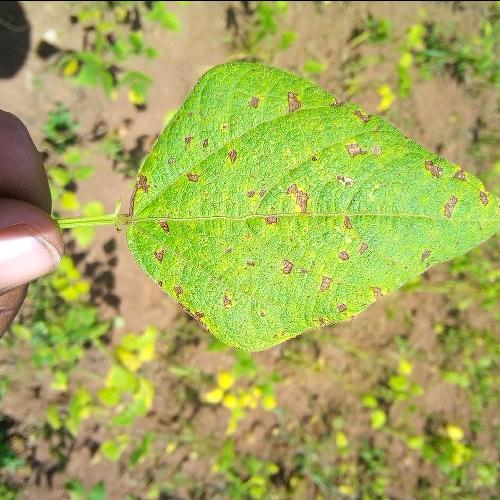hawar: (126, 172, 434, 264), (192, 87, 384, 163), (159, 279, 246, 332), (308, 266, 381, 314), (440, 170, 495, 222)
